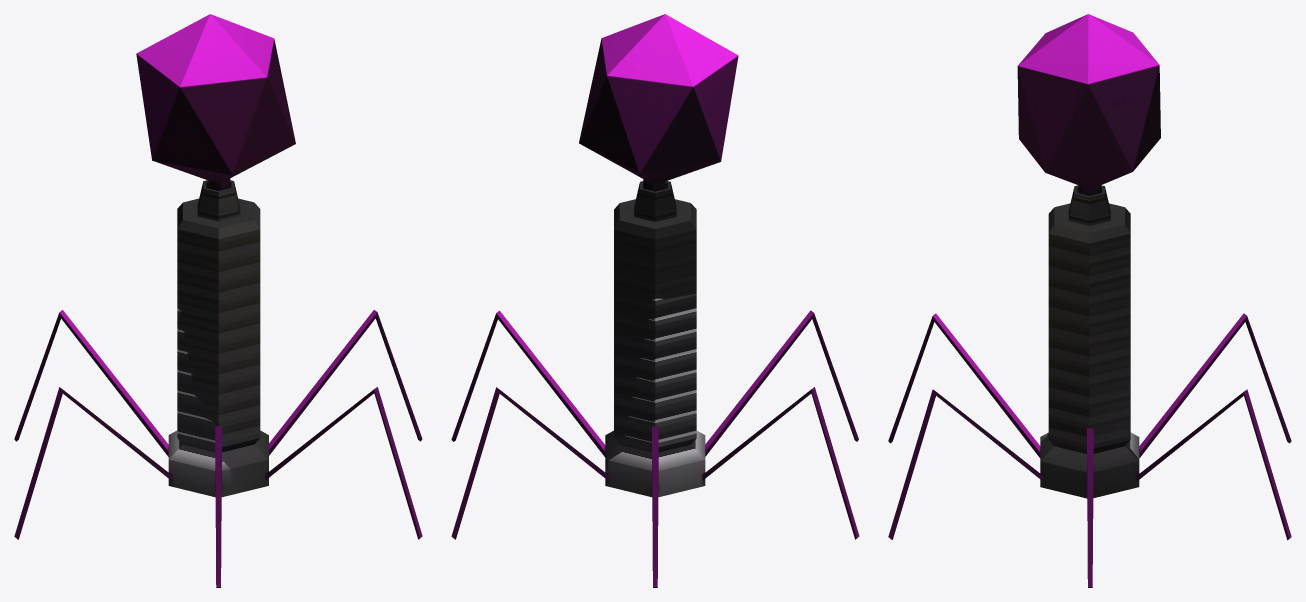
3 renders of one model, left to right at view 1: azimuth 30°, elevation 25°; view 2: azimuth 150°, elevation 25°; view 3: azimuth 270°, elevation 25°, orthographic.
Visible parts, largest first — view 1: Bacteriophage_reduced; view 2: Bacteriophage_reduced; view 3: Bacteriophage_reduced.
Part boxes in pixels (x1,y1,x2,y2): Bacteriophage_reduced: (14, 14, 422, 587); Bacteriophage_reduced: (451, 14, 859, 587); Bacteriophage_reduced: (888, 14, 1291, 587).
Size of the model in its own units: 40.36 by 45.45 by 35.16.
Materials: 1 (1 with a texture image).
